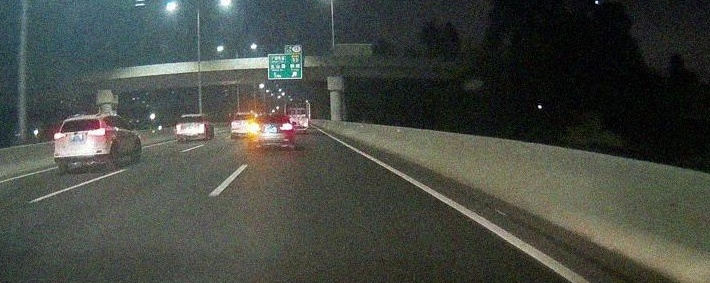L_light: (53, 132, 67, 139), (249, 124, 260, 131)
R_light: (90, 128, 106, 136), (279, 123, 292, 130)
T_light: (77, 118, 87, 121), (268, 115, 277, 118)
night-left: (248, 114, 294, 150)
night-no: (53, 114, 109, 171)
